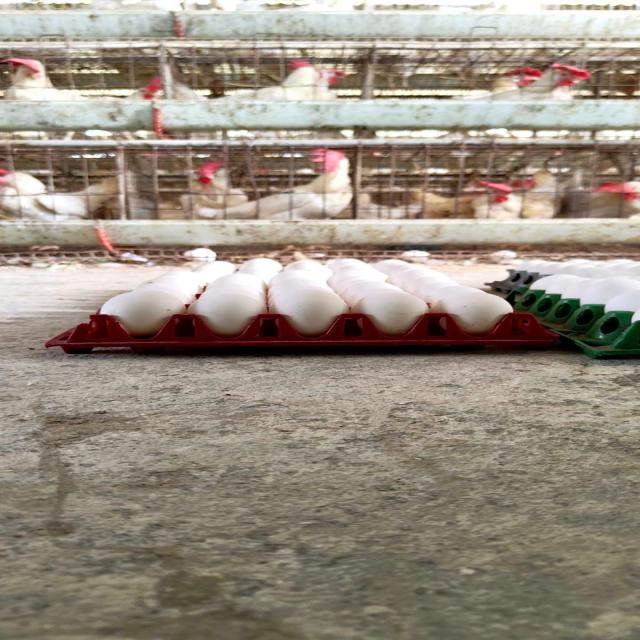egg_tray: (100, 258, 512, 341), (100, 258, 512, 337), (47, 312, 556, 353), (329, 260, 512, 335), (516, 259, 639, 357), (516, 259, 639, 314), (487, 258, 639, 302), (556, 306, 639, 358), (517, 258, 639, 278), (485, 266, 540, 302), (514, 328, 530, 343), (532, 332, 549, 345), (523, 318, 534, 326), (48, 339, 61, 345), (354, 334, 362, 343), (529, 326, 535, 335), (343, 336, 346, 338), (347, 258, 348, 260), (265, 341, 266, 341), (370, 332, 370, 332)
